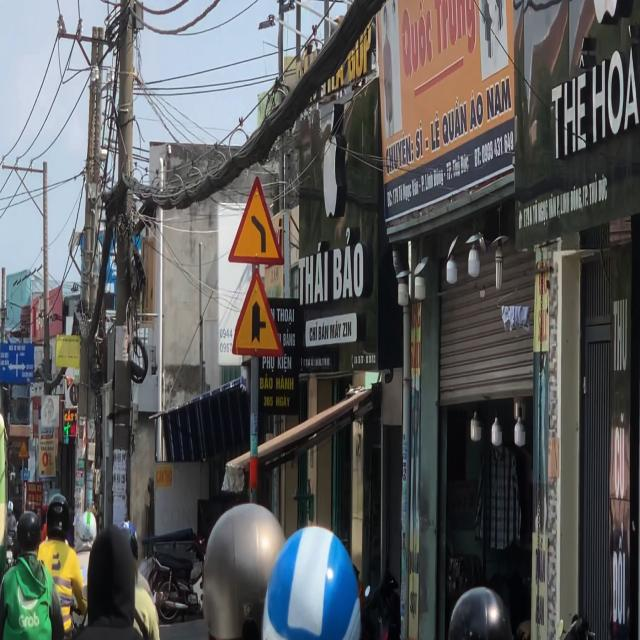Giao voi duong khong uu tien: (228, 268, 287, 360)
Nguy hiem: (226, 172, 291, 269)
